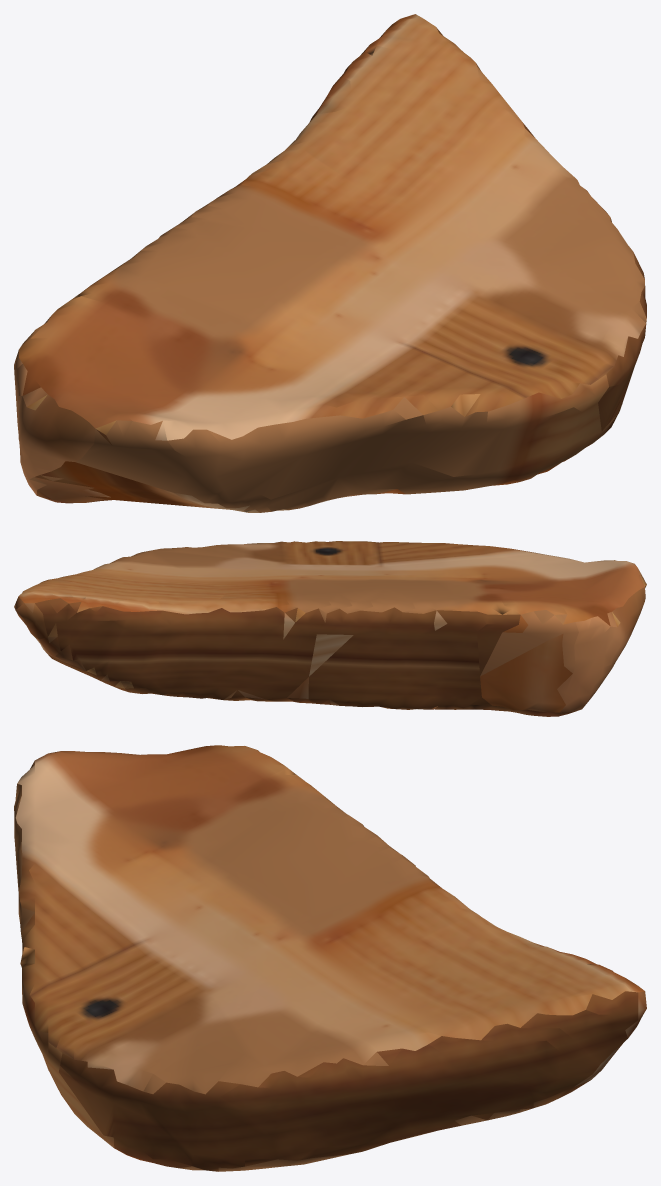
The model's file is Glacier_board06.fbx.
The picture shows the model from 3 angles, top to bottom: view 1: azimuth 30°, elevation 25°; view 2: azimuth 150°, elevation 25°; view 3: azimuth 270°, elevation 25°; orthographic projection. The views are drawn at different scales.
Visible parts, largest first — view 1: material_0; view 2: material_0; view 3: material_0.
Boxes of the visible parts, <box> form: material_0: <box>14,14,646,512</box>; material_0: <box>14,541,646,716</box>; material_0: <box>14,745,646,1171</box>.
Size of the model in its own units: 0.1924 by 0.0607 by 0.1669.
